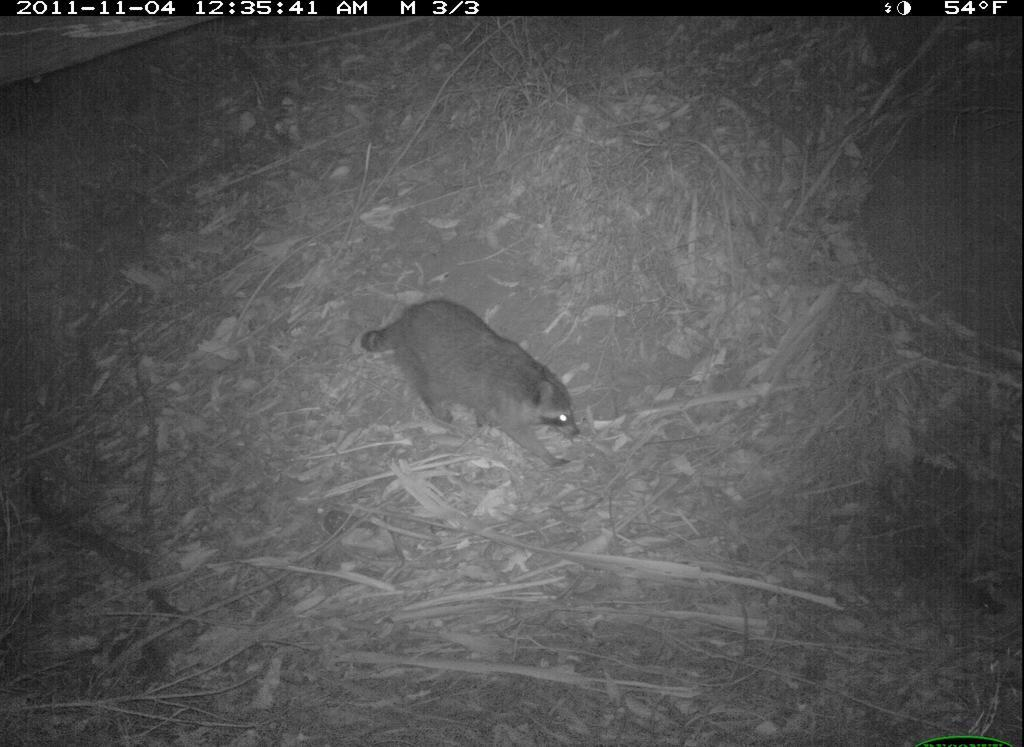raccoon: (356, 294, 598, 491)
